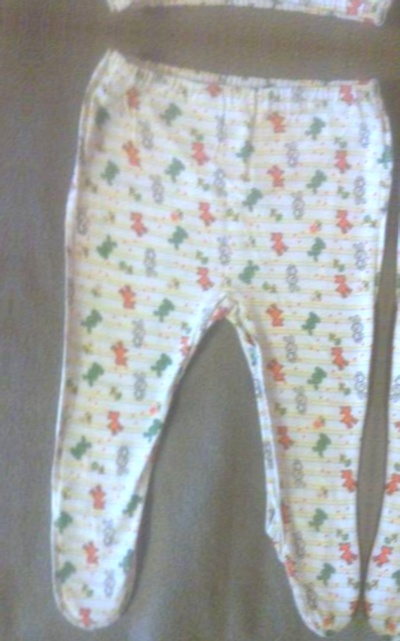Pants: (10, 49, 400, 641), (360, 78, 400, 641), (62, 0, 400, 31), (0, 16, 6, 616)
